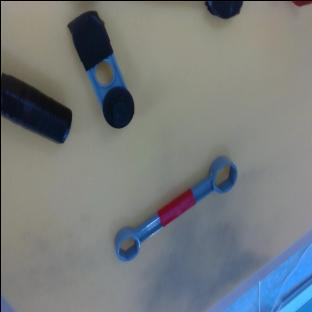part_1_bad: (64, 6, 140, 131)
part_2_bad: (0, 69, 79, 147)
part_3_bad: (204, 0, 242, 18)
part_3_good: (104, 151, 244, 265)
